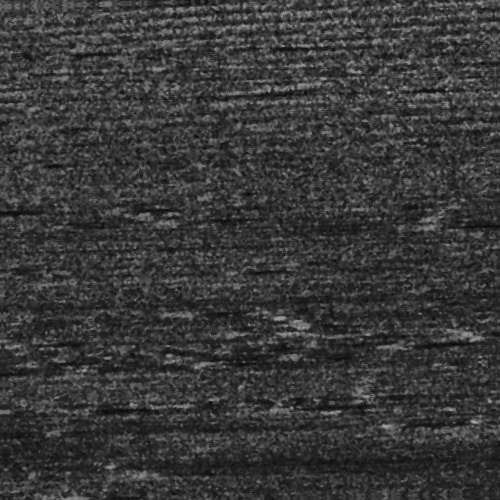object: (382, 342, 423, 349)
shadow: (402, 342, 481, 349)
